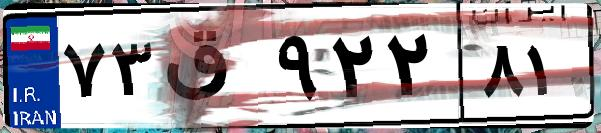1: (525, 38, 570, 115)
2: (385, 28, 445, 110), (330, 28, 385, 110)
3: (110, 28, 158, 98)
7: (57, 26, 110, 100)
8: (475, 38, 525, 113)
9: (270, 28, 330, 110)
ق: (158, 20, 270, 120)
